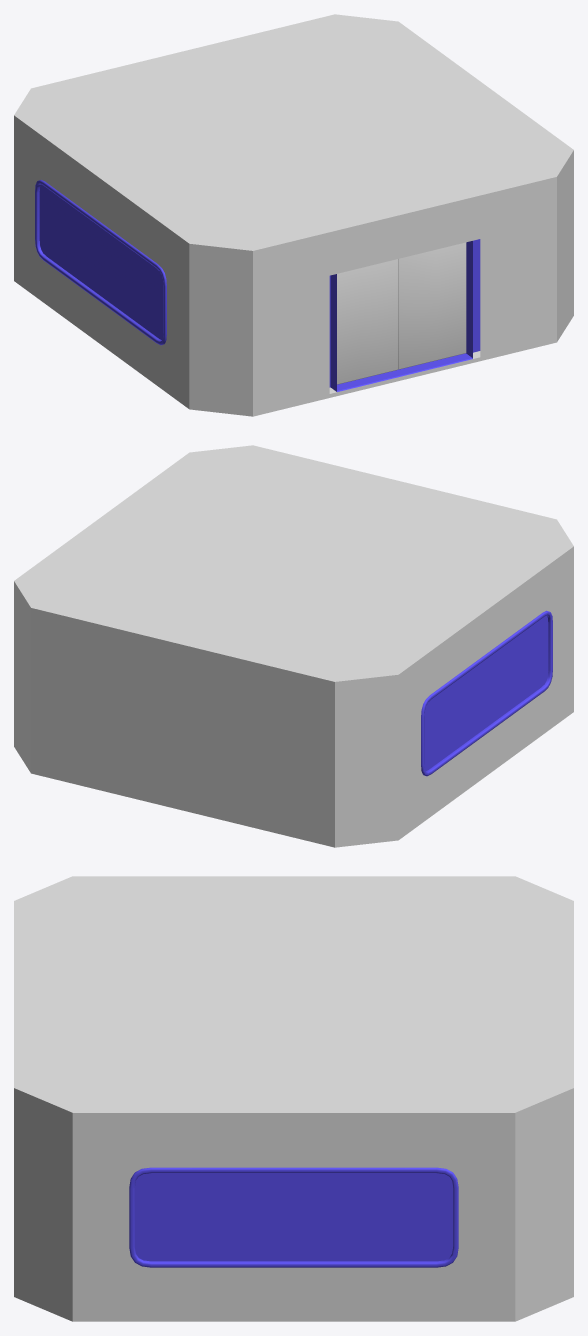
The model's file is Elevator_01.FBX.
3 views of the same model, one above another, from view 1: azimuth 30°, elevation 25°; view 2: azimuth 150°, elevation 25°; view 3: azimuth 270°, elevation 25° (orthographic). The views are drawn at different scales.
Visible parts, largest first — view 1: Elevator_01_Outer, Elevator_01_Glass, Elevator_01_DoorRight, Elevator_01_DoorLeft, Elevator_01_Inner; view 2: Elevator_01_Outer, Elevator_01_Glass, Elevator_01_Inner; view 3: Elevator_01_Outer, Elevator_01_Glass, Elevator_01_Inner.
Boxes of the visible parts, left/top/right/bottom form: Elevator_01_Outer: left=14, top=14, right=573, bottom=416; Elevator_01_Glass: left=39, top=184, right=163, bottom=339; Elevator_01_DoorRight: left=398, top=242, right=466, bottom=369; Elevator_01_DoorLeft: left=337, top=259, right=398, bottom=384; Elevator_01_Inner: left=35, top=179, right=480, bottom=391; Elevator_01_Outer: left=14, top=445, right=573, bottom=847; Elevator_01_Glass: left=424, top=615, right=548, bottom=770; Elevator_01_Inner: left=421, top=610, right=552, bottom=776; Elevator_01_Outer: left=14, top=876, right=573, bottom=1321; Elevator_01_Glass: left=134, top=1173, right=453, bottom=1261; Elevator_01_Inner: left=129, top=1167, right=458, bottom=1267.
Size of the model in its own units: 10.3 by 4.2 by 10.2.
